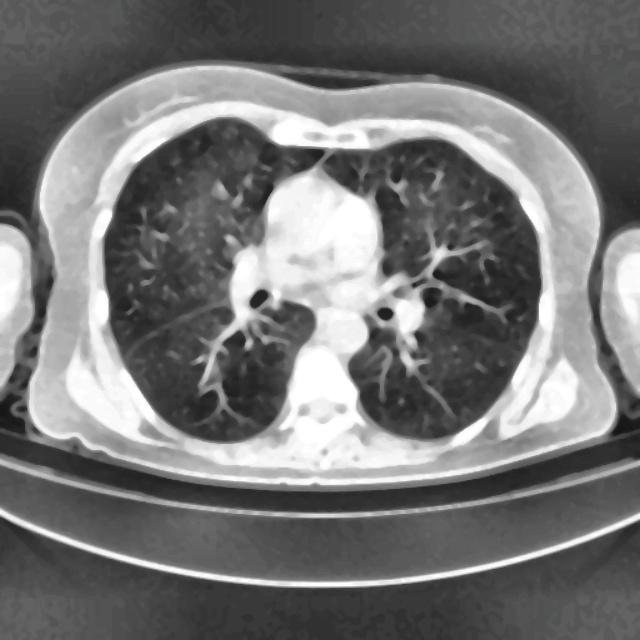covid: (18, 59, 620, 491)
